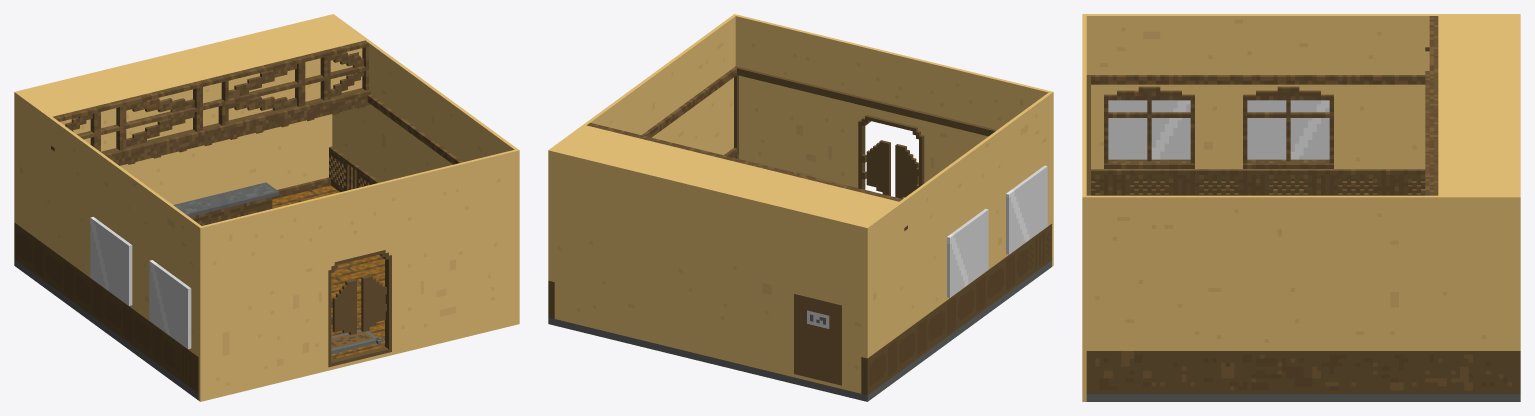
File: Room.obj
3 views of the same model, side by side, from view 1: azimuth 30°, elevation 25°; view 2: azimuth 150°, elevation 25°; view 3: azimuth 270°, elevation 25° (orthographic). The views are drawn at different scales.
Size of the model in its own units: 10.1 by 5.2 by 10.1.
Materials: 1 (1 with a texture image).
